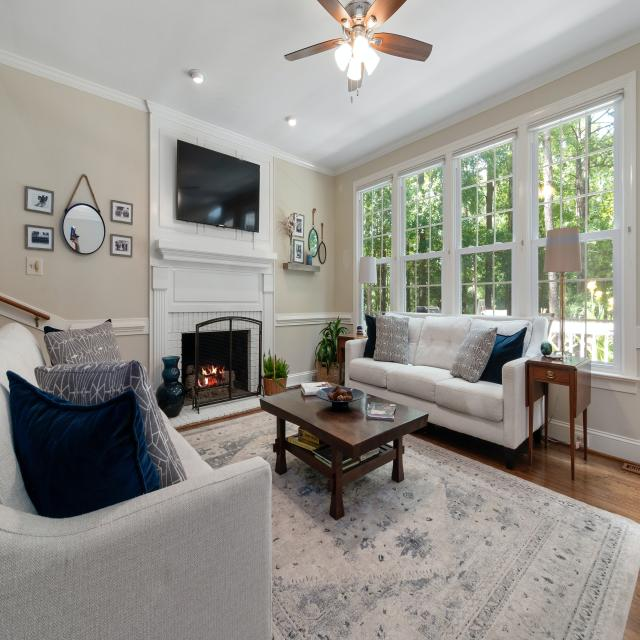floor: (408, 422, 640, 525), (623, 567, 640, 640)
wall: (334, 43, 640, 378), (0, 63, 149, 320), (149, 239, 275, 397), (149, 112, 274, 253), (274, 156, 334, 314), (176, 140, 260, 232), (587, 381, 640, 464), (275, 323, 328, 391), (62, 174, 106, 254), (548, 383, 570, 445), (25, 186, 65, 215), (26, 224, 54, 251), (575, 411, 584, 434)
